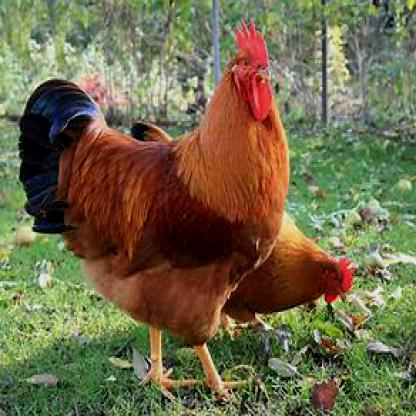chicken: (19, 17, 294, 406), (282, 210, 358, 327)
